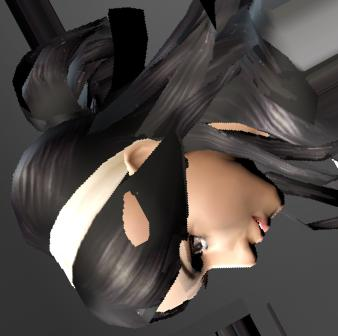clip: (117, 192, 157, 233)
